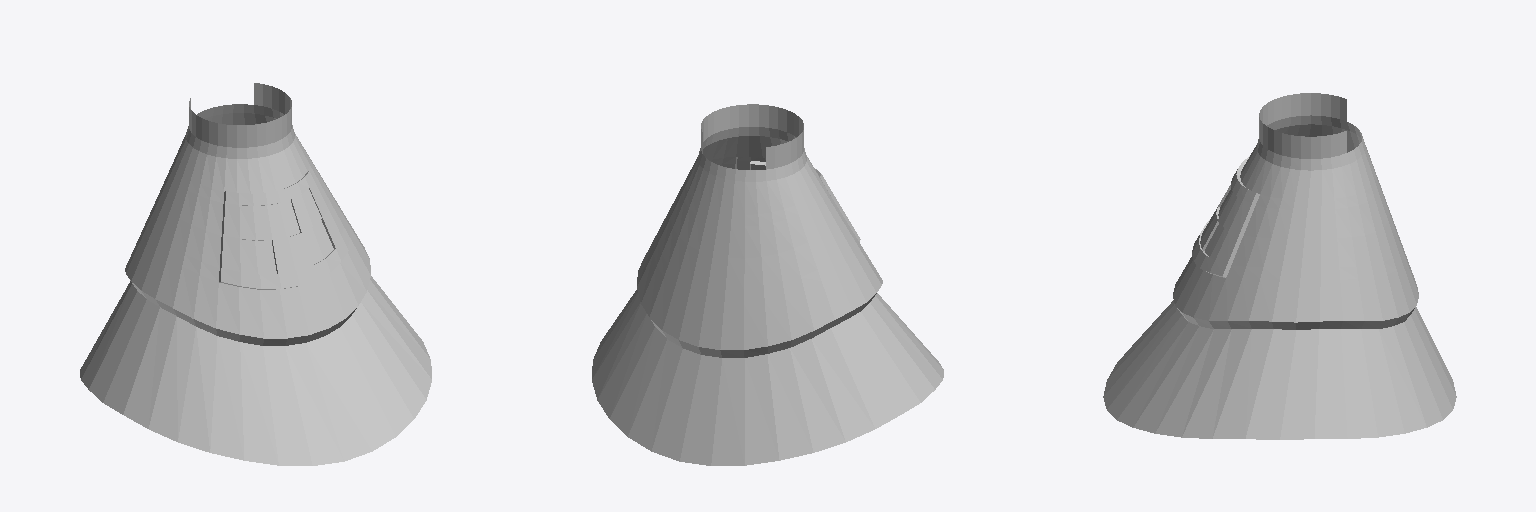
The model's file is Cuerpo.obj.
3 renders of one model, left to right at view 1: azimuth 30°, elevation 25°; view 2: azimuth 150°, elevation 25°; view 3: azimuth 270°, elevation 25°, orthographic.
Parts seen in each view (by area): view 1: Madotsuki.005; view 2: Madotsuki.005; view 3: Madotsuki.005.
Part boxes in pixels (left/top/right/bottom): Madotsuki.005: left=80, top=83, right=431, bottom=465; Madotsuki.005: left=592, top=104, right=943, bottom=465; Madotsuki.005: left=1103, top=93, right=1456, bottom=439.
Bounding box in the file's own units: 0.6572 × 0.579 × 0.6572.